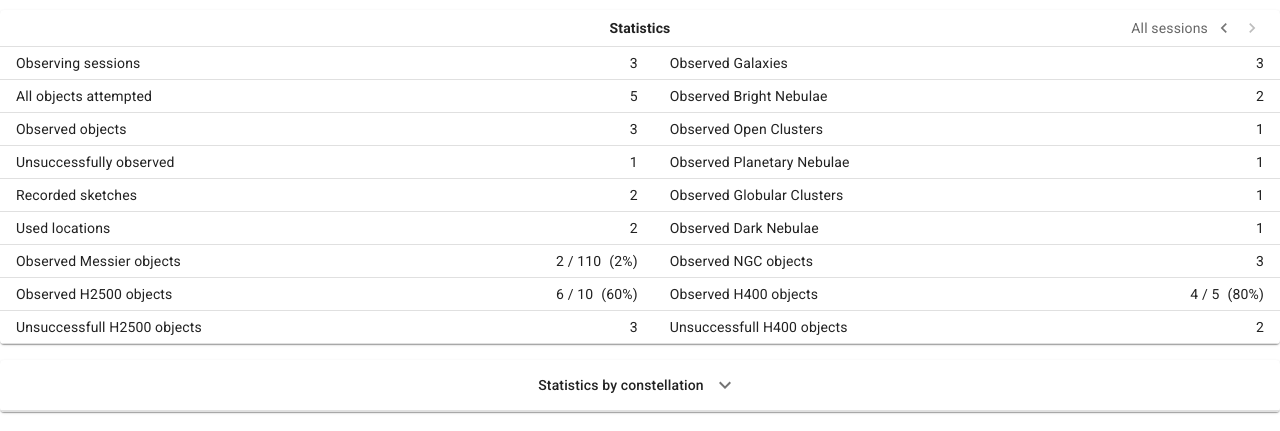
it: reloads statistics when the session exclusion control changes
The width and height of the screenshot is (1280, 431).
Check: the text "All sessions" is shown, box 1131,16 -> 1208,40
Check: the button named "Include one more recent session" is disabled, box 1240,16 -> 1264,40
Step 1. Click the button named "Exclude one more recent session" → (1224, 28), box 1212,16 -> 1236,40
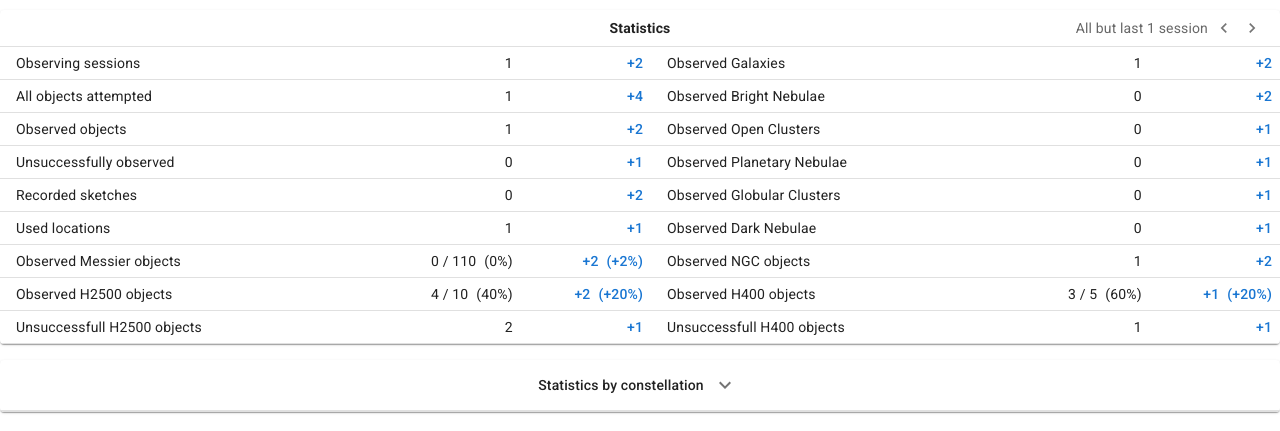
Check: the text "All but last 1 session" is shown, box 1076,16 -> 1208,40
Check: the button named "Include one more recent session" is enabled
Step 2. Click the button named "Include one more recent session" → (1252, 28), box 1240,16 -> 1264,40
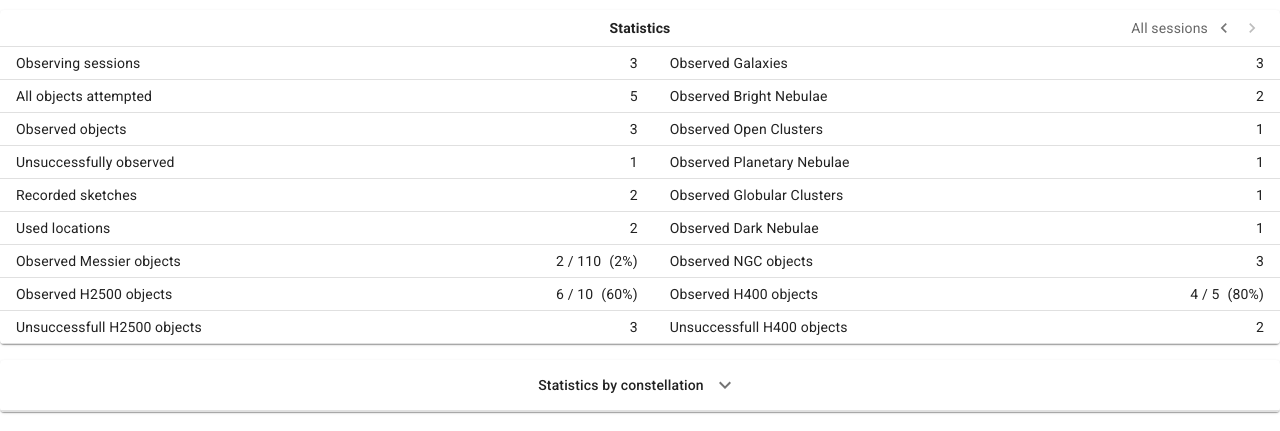
Check: the text "All sessions" is shown, box 1131,16 -> 1208,40
Check: the button named "Include one more recent session" is disabled, box 1240,16 -> 1264,40
